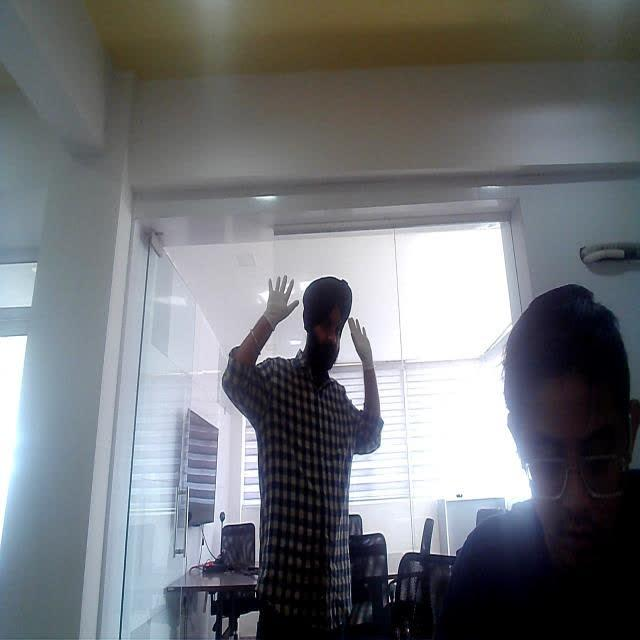with_gloves: (346, 316, 389, 385), (243, 273, 280, 344)
